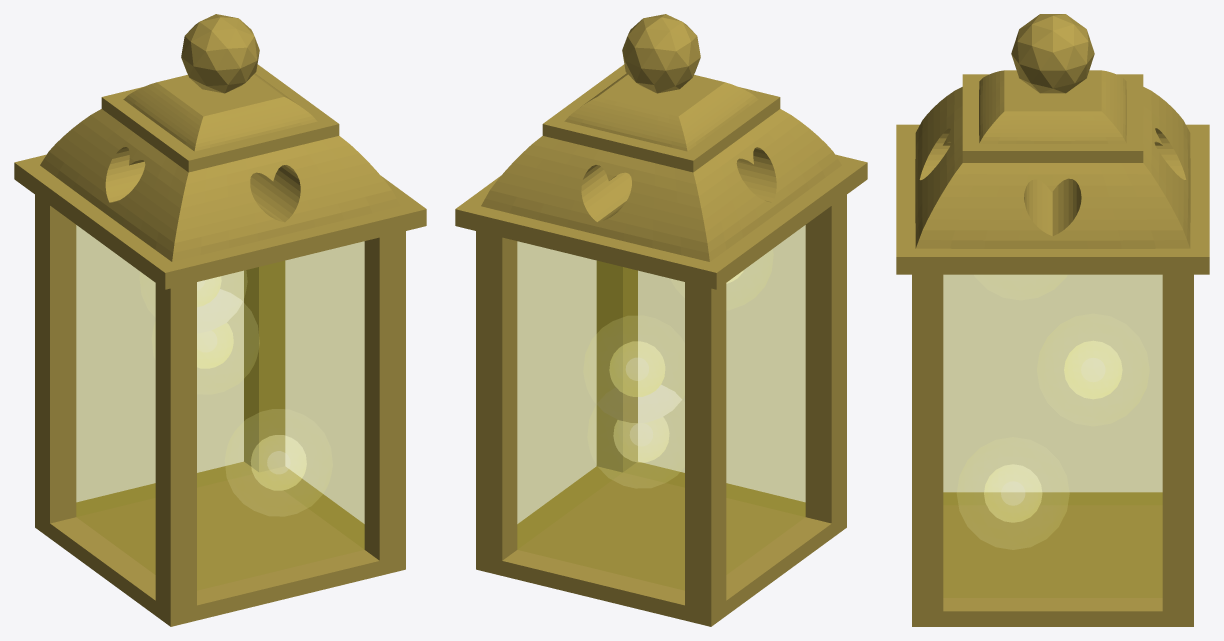
Rendered from firefly_lantern.glb.
The picture shows the model from 3 angles, left to right: view 1: azimuth 30°, elevation 25°; view 2: azimuth 150°, elevation 25°; view 3: azimuth 270°, elevation 25°; orthographic projection. The views are drawn at different scales.
Visible parts, largest first — view 1: Guard_1, Glass_0, Lid_2, Glowbug 3_5, Glowbug 2_4; view 2: Guard_1, Glass_0, Lid_2, Glowbug 2_4, Glowbug 3_5; view 3: Glass_0, Guard_1, Lid_2, Glowbug 3_5, Glowbug 2_4.
Boxes of the visible parts, left/top/right/bottom form: Guard_1: left=14, top=154, right=426, bottom=626; Glass_0: left=76, top=225, right=364, bottom=590; Lid_2: left=40, top=14, right=400, bottom=261; Glowbug 3_5: left=250, top=435, right=306, bottom=490; Glowbug 2_4: left=197, top=323, right=233, bottom=368; Guard_1: left=455, top=154, right=867, bottom=626; Glass_0: left=517, top=225, right=805, bottom=590; Lid_2: left=481, top=14, right=841, bottom=261; Glowbug 2_4: left=609, top=341, right=665, bottom=396; Glowbug 3_5: left=613, top=417, right=669, bottom=462; Glass_0: left=943, top=275, right=1162, bottom=597; Guard_1: left=896, top=124, right=1209, bottom=626; Lid_2: left=915, top=14, right=1190, bottom=248; Glowbug 3_5: left=984, top=464, right=1042, bottom=522; Glowbug 2_4: left=1064, top=340, right=1122, bottom=399.
Size of the model in its own units: 19.99 by 38.81 by 19.99.
